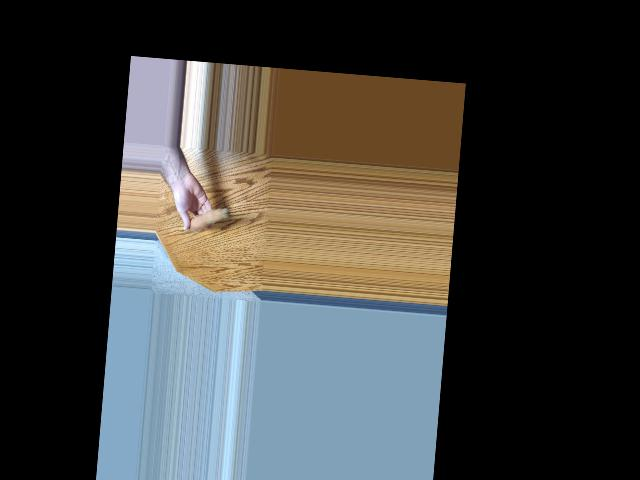sweet_potato: (184, 202, 228, 234)
